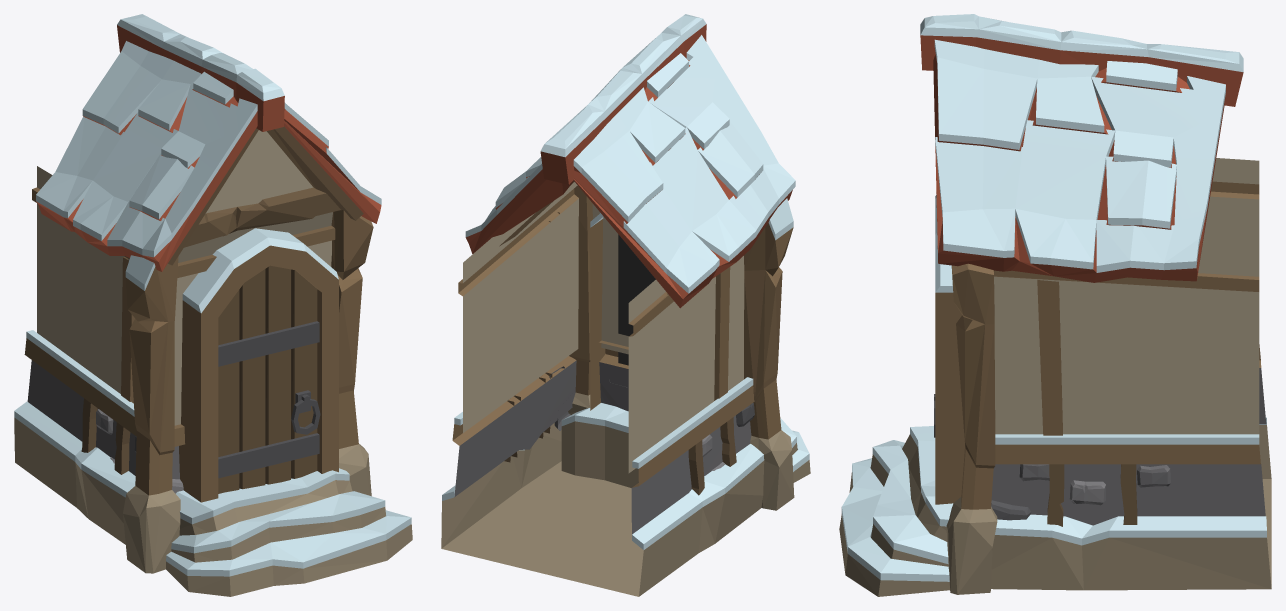
Rendered from SM_Bld_House_Door_03_Snow.gltf.
3 views of the same model, side by side, from view 1: azimuth 30°, elevation 25°; view 2: azimuth 150°, elevation 25°; view 3: azimuth 270°, elevation 25° (orthographic). The views are drawn at different scales.
Parts seen in each view (by area): view 1: SM_Bld_House_Door_03_Snow; view 2: SM_Bld_House_Door_03_Snow; view 3: SM_Bld_House_Door_03_Snow.
Part boxes in pixels (<box>): SM_Bld_House_Door_03_Snow: <box>14,14,412,596</box>; SM_Bld_House_Door_03_Snow: <box>441,14,810,596</box>; SM_Bld_House_Door_03_Snow: <box>839,14,1271,596</box>.
Size of the model in its own units: 2.14 by 3.99 by 3.03.
Materials: 1 (1 with a texture image).
